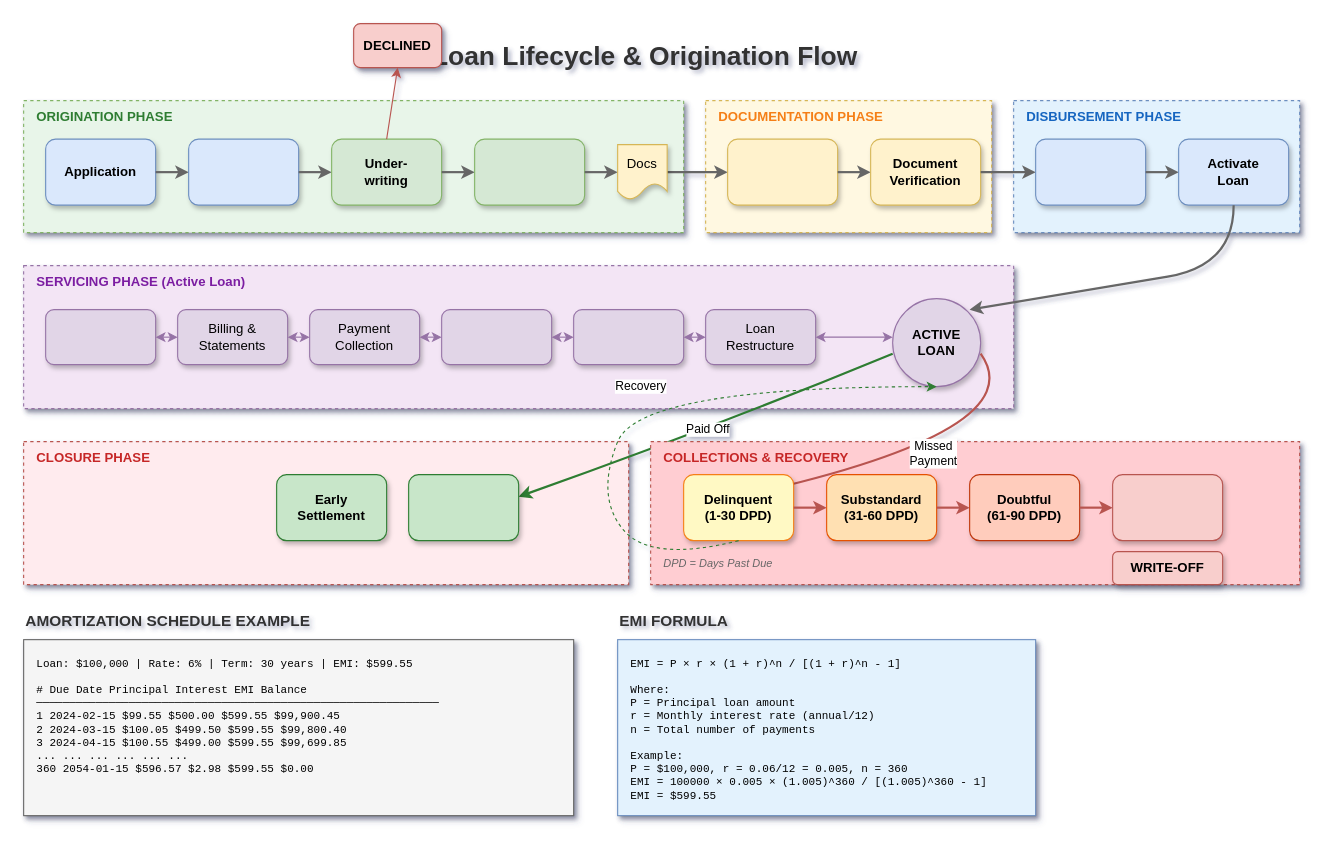
Some shapes in this 1332 by 849 pixel diagram are drawn without their labels. Each missing label, with the centre of its shape:
"Amortization Update" belongs at point 497,338.
"Approval" belongs at point 530,173.
"Credit Check" belongs at point 244,173.
"Disburse Funds" belongs at point 1091,173.
"Document Collection" belongs at point 783,173.
"Interest Accrual" belongs at point 101,338.
"NPA/Loss (90+ DPD)" belongs at point 1168,508.
"PAID OFF (Normal Close)" belongs at point 464,508.
"Prepayment Processing" belongs at point 629,338.
